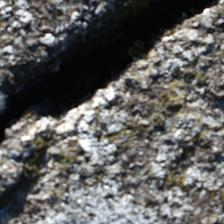Crack: (5, 4, 197, 136)
